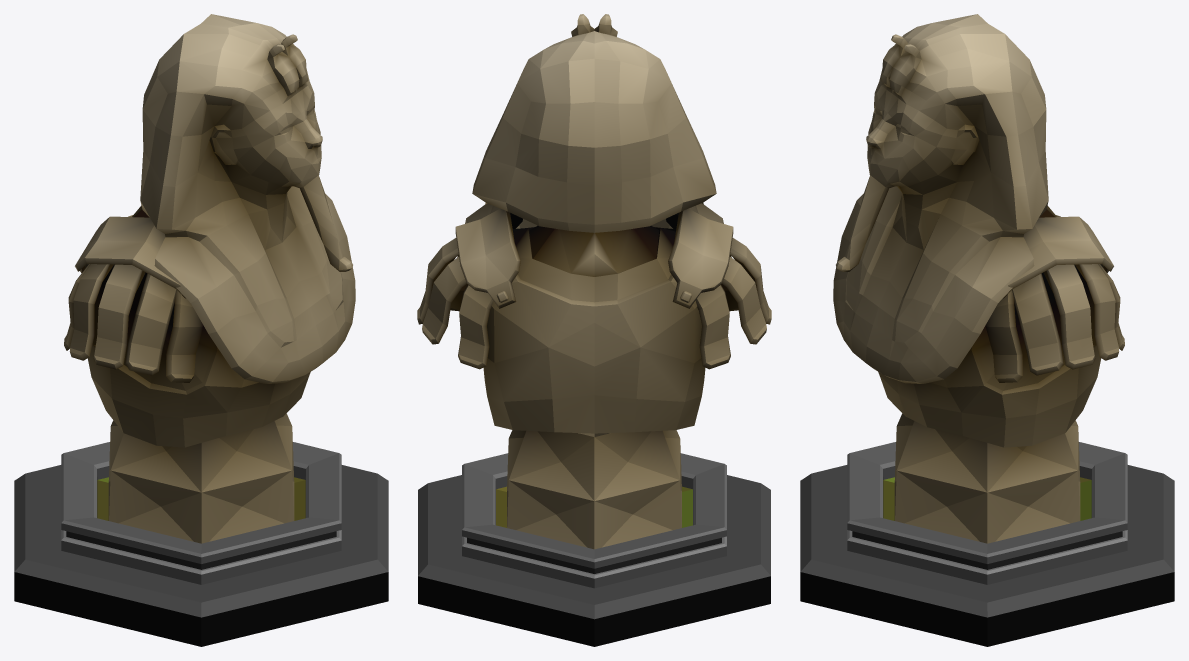
File: armyTile_Egyptian.fbx
3 views of the same model, side by side, from view 1: azimuth 30°, elevation 25°; view 2: azimuth 150°, elevation 25°; view 3: azimuth 270°, elevation 25° (orthographic). The views are drawn at different scales.
Parts seen in each view (by area): view 1: armyTile_Egyptian; view 2: armyTile_Egyptian; view 3: armyTile_Egyptian.
Boxes of the visible parts, bbox=[...] form: armyTile_Egyptian: bbox=[14, 14, 388, 646]; armyTile_Egyptian: bbox=[417, 14, 771, 646]; armyTile_Egyptian: bbox=[800, 14, 1174, 646].
Size of the model in its own units: 2 by 2.74 by 1.73.
